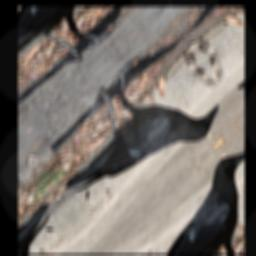Crow: (37, 29, 230, 236)
